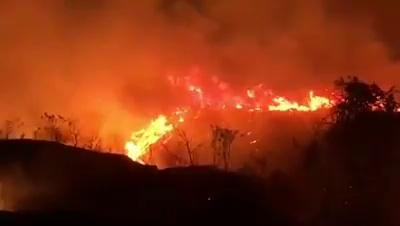fire: (131, 119, 172, 156), (271, 95, 335, 112)
